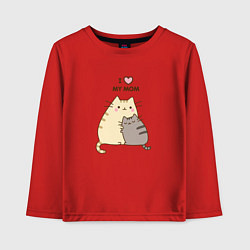cat: (104, 93, 137, 115), (118, 115, 146, 133)
